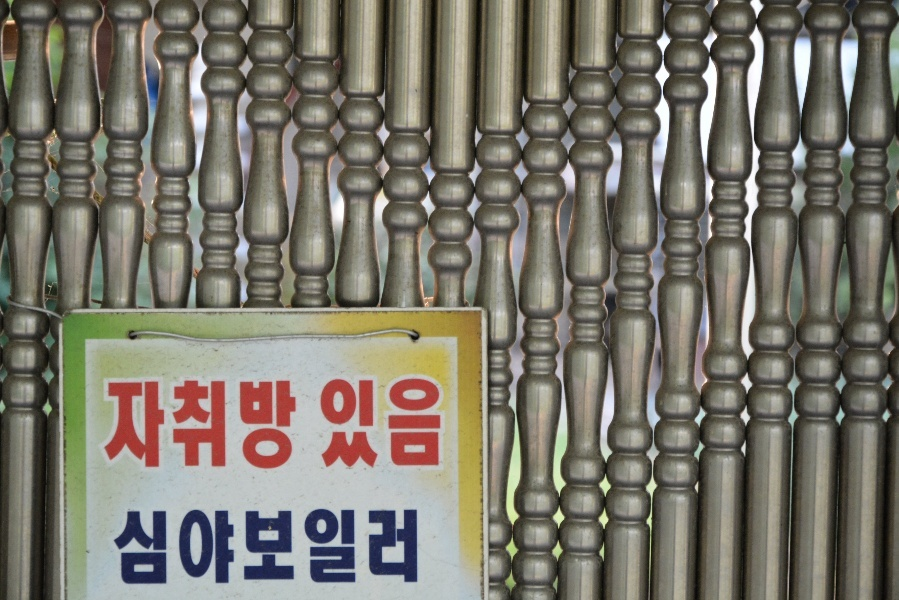text: (113, 378, 128, 471), (129, 378, 144, 471), (145, 378, 160, 471), (161, 378, 176, 471), (177, 378, 192, 471), (193, 378, 208, 471), (209, 378, 224, 471), (225, 378, 240, 471), (241, 378, 256, 471), (257, 378, 272, 471), (273, 378, 288, 471), (289, 378, 304, 471), (305, 378, 320, 471), (321, 378, 336, 471), (337, 378, 352, 471), (353, 378, 368, 471), (369, 378, 384, 471), (385, 378, 400, 471), (401, 378, 416, 471), (417, 378, 432, 471), (113, 508, 128, 587), (129, 508, 144, 587), (145, 508, 160, 587), (161, 508, 176, 587), (177, 508, 192, 587), (193, 508, 208, 587), (209, 508, 224, 587), (225, 508, 240, 587), (241, 508, 256, 587), (257, 508, 272, 587), (273, 508, 288, 587), (289, 508, 304, 587), (305, 508, 320, 587), (321, 508, 336, 587), (337, 508, 352, 587), (353, 508, 368, 587), (369, 508, 384, 587), (385, 508, 400, 587), (401, 508, 416, 587), (433, 378, 443, 471), (107, 378, 112, 471), (417, 508, 419, 587)
